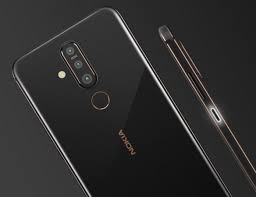nokia: (12, 9, 233, 197)
